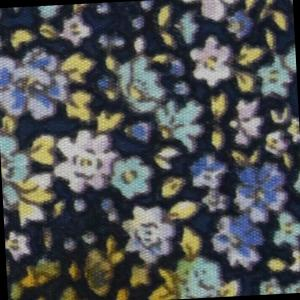Oil Stain: (5, 226, 185, 300)
